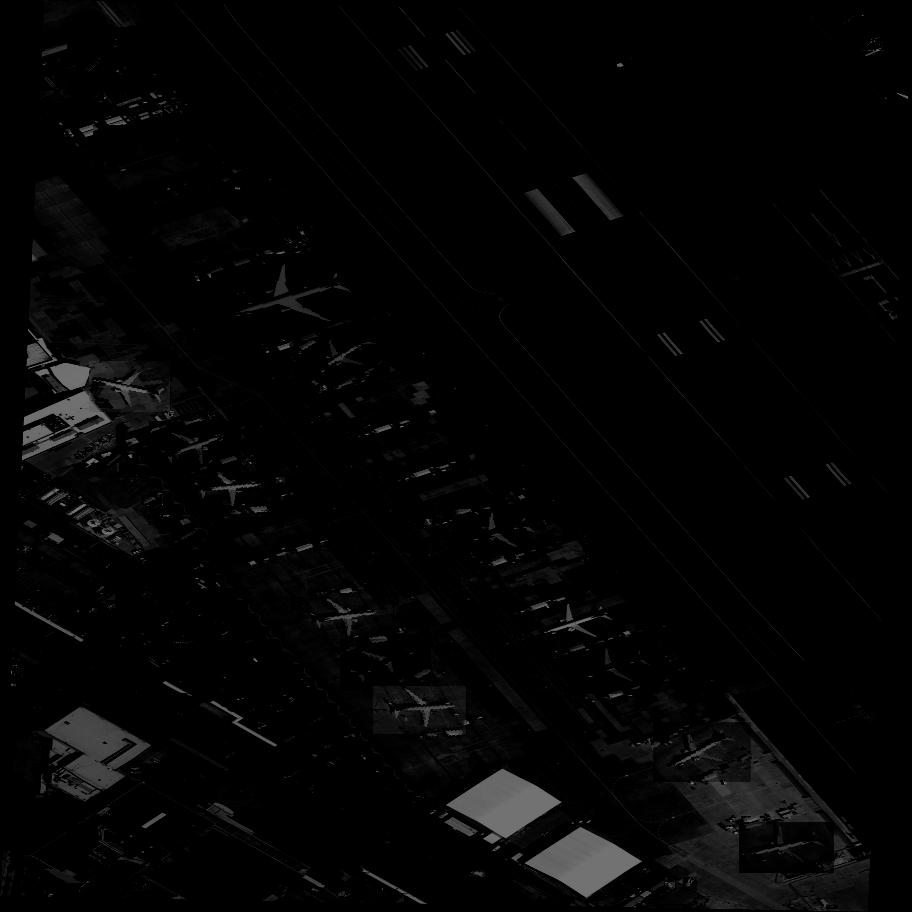large-vehicle: (172, 530, 199, 547), (173, 529, 197, 548), (83, 60, 104, 78), (43, 74, 62, 93), (118, 462, 136, 481), (120, 461, 136, 481), (52, 68, 76, 81), (143, 492, 163, 507), (142, 494, 163, 506), (684, 877, 698, 893), (151, 502, 165, 513), (469, 870, 485, 878), (297, 226, 307, 238), (314, 547, 322, 554), (317, 545, 326, 548)
plane: (211, 247, 373, 347), (94, 116, 208, 201), (67, 20, 173, 98), (294, 318, 391, 398), (653, 714, 751, 791), (340, 626, 431, 700), (149, 415, 241, 482), (569, 635, 660, 699), (306, 590, 393, 652), (740, 820, 834, 877), (452, 506, 545, 563), (374, 685, 467, 737), (90, 361, 171, 416), (189, 465, 272, 513), (835, 10, 863, 33), (862, 32, 889, 55), (860, 44, 885, 62)
small-vehicle: (95, 585, 108, 598), (469, 870, 485, 877), (179, 611, 190, 621), (382, 840, 395, 848), (38, 889, 48, 899), (146, 611, 155, 621), (160, 620, 170, 629), (182, 602, 192, 611), (121, 570, 131, 579), (106, 561, 115, 571), (98, 557, 108, 566), (307, 783, 319, 790), (158, 599, 167, 608), (666, 881, 675, 890), (658, 887, 667, 896), (304, 692, 313, 701), (358, 893, 367, 902), (129, 584, 139, 592), (21, 553, 31, 561), (260, 343, 270, 351), (181, 548, 191, 556), (347, 741, 357, 749), (390, 893, 400, 901), (23, 600, 31, 609), (50, 616, 59, 624), (67, 626, 76, 634), (98, 596, 106, 605), (48, 587, 57, 595), (221, 631, 230, 639), (109, 564, 117, 573), (26, 555, 35, 563), (276, 477, 285, 485), (364, 422, 372, 431), (289, 358, 298, 366), (359, 755, 368, 763), (245, 705, 254, 713), (286, 721, 295, 729), (416, 800, 425, 808), (397, 896, 406, 904), (355, 890, 363, 899), (280, 772, 289, 780), (258, 724, 268, 731), (662, 886, 673, 892), (177, 713, 188, 719), (90, 608, 98, 616), (40, 610, 48, 618), (108, 594, 116, 602), (79, 450, 87, 458), (425, 518, 433, 526), (320, 384, 328, 392), (287, 696, 295, 704), (353, 748, 361, 756), (341, 883, 349, 891), (138, 556, 147, 563), (44, 893, 53, 900), (149, 615, 158, 622), (172, 609, 181, 616), (32, 480, 41, 487), (386, 782, 393, 791), (365, 761, 372, 770), (298, 711, 307, 718), (364, 877, 371, 886), (85, 618, 95, 624), (164, 658, 174, 664), (305, 787, 315, 793), (33, 606, 41, 613), (59, 619, 67, 626), (71, 607, 79, 614), (200, 622, 207, 630), (35, 588, 43, 595), (142, 558, 150, 565), (177, 628, 184, 636), (23, 486, 31, 493), (144, 583, 152, 590), (91, 554, 99, 561), (22, 545, 29, 553), (553, 649, 561, 656), (76, 142, 83, 150), (430, 810, 438, 817), (378, 885, 386, 892), (283, 716, 291, 723), (145, 561, 156, 566), (37, 637, 46, 643), (179, 632, 188, 638), (162, 602, 171, 608), (75, 454, 84, 460), (17, 551, 26, 557), (639, 901, 648, 907), (412, 799, 421, 805), (220, 680, 229, 686), (216, 675, 225, 681), (344, 887, 353, 893), (82, 614, 89, 621), (118, 599, 125, 606), (157, 618, 164, 625), (154, 599, 161, 606), (51, 560, 58, 567), (15, 568, 22, 575), (373, 769, 380, 776), (360, 876, 367, 883), (100, 591, 108, 597), (80, 632, 88, 638), (74, 610, 82, 616), (39, 745, 47, 751), (165, 624, 173, 630), (86, 447, 94, 453), (206, 415, 214, 421), (205, 615, 211, 623), (39, 476, 47, 482), (19, 542, 25, 550), (654, 891, 662, 897), (421, 804, 429, 810), (471, 555, 477, 563), (334, 726, 342, 732), (282, 690, 288, 698), (271, 703, 279, 709), (388, 891, 396, 897), (338, 891, 346, 897), (15, 875, 24, 880), (33, 737, 42, 742), (38, 556, 47, 561), (25, 548, 34, 553), (233, 693, 242, 698), (161, 661, 170, 666), (275, 709, 284, 714), (826, 905, 837, 909), (44, 474, 51, 480), (19, 489, 26, 495), (95, 557, 102, 563), (61, 130, 67, 137), (881, 92, 887, 99), (325, 718, 332, 724), (358, 874, 365, 880), (150, 563, 158, 568), (197, 613, 205, 618), (12, 671, 18, 677), (201, 625, 210, 629), (19, 493, 25, 499), (228, 636, 237, 640), (222, 160, 231, 164), (47, 615, 54, 620), (153, 617, 160, 622), (106, 434, 113, 439), (584, 695, 589, 702), (160, 515, 171, 518), (647, 896, 655, 900), (13, 891, 21, 895), (103, 437, 109, 442), (379, 778, 385, 783), (224, 683, 230, 688), (89, 445, 96, 449), (107, 605, 116, 608), (43, 558, 52, 561), (166, 604, 172, 608), (77, 613, 85, 616), (96, 442, 102, 446), (14, 886, 22, 889), (405, 899, 411, 903), (247, 709, 255, 712), (278, 712, 286, 715), (383, 889, 391, 892), (148, 587, 155, 590), (258, 688, 265, 691), (349, 896, 356, 899), (336, 889, 343, 892), (285, 720, 292, 723), (650, 894, 660, 896), (257, 723, 267, 725), (236, 699, 246, 701), (11, 681, 14, 687), (172, 628, 178, 631), (273, 707, 282, 709), (99, 440, 107, 442), (37, 877, 45, 879), (185, 553, 193, 555), (252, 714, 260, 716), (280, 715, 288, 717), (219, 678, 227, 680), (169, 411, 174, 414), (288, 493, 293, 496), (17, 541, 20, 545), (189, 559, 195, 561), (346, 894, 350, 897), (13, 663, 15, 668), (13, 894, 21, 895), (29, 733, 31, 737)
